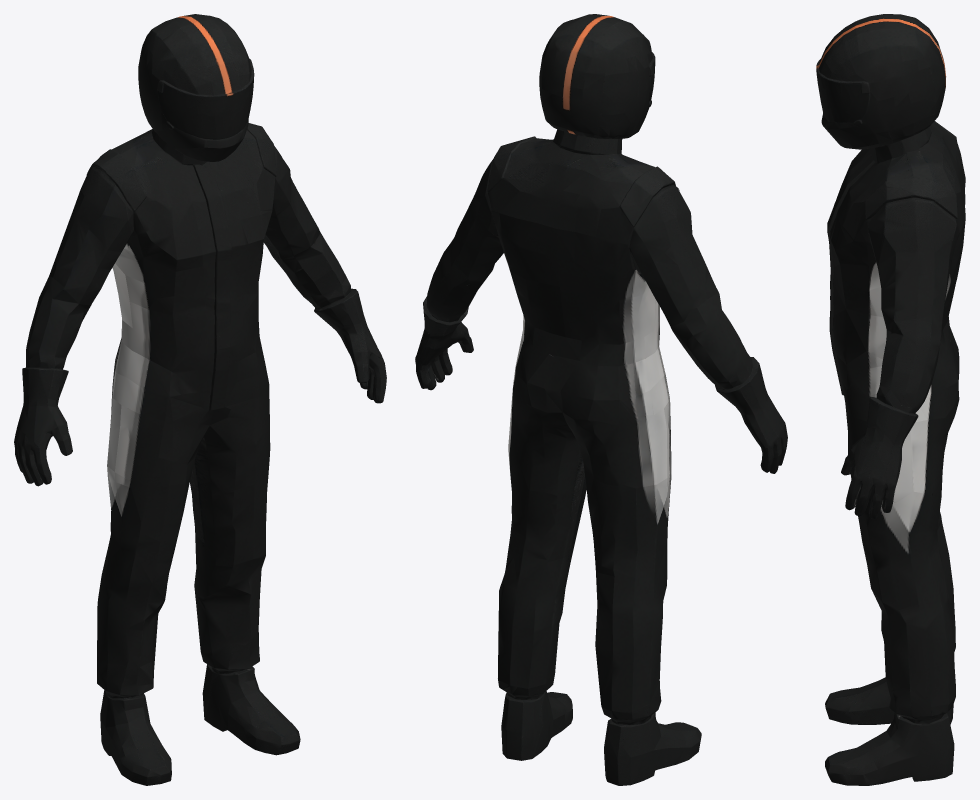
Rendered from driver.glb.
3 renders of one model, left to right at view 1: azimuth 30°, elevation 25°; view 2: azimuth 150°, elevation 25°; view 3: azimuth 270°, elevation 25°, orthographic.
Bounding box in the file's own units: 0.985 × 1.9 × 0.355.
Materials: 1 (1 with a texture image).
